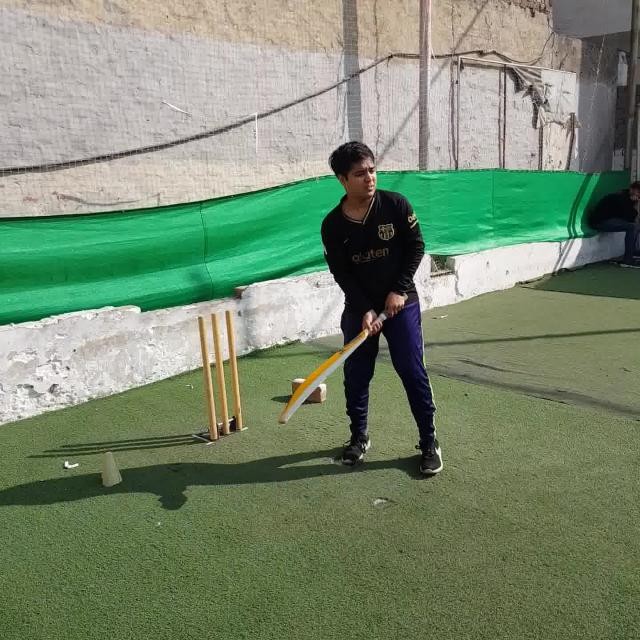bat: (274, 295, 405, 424)
